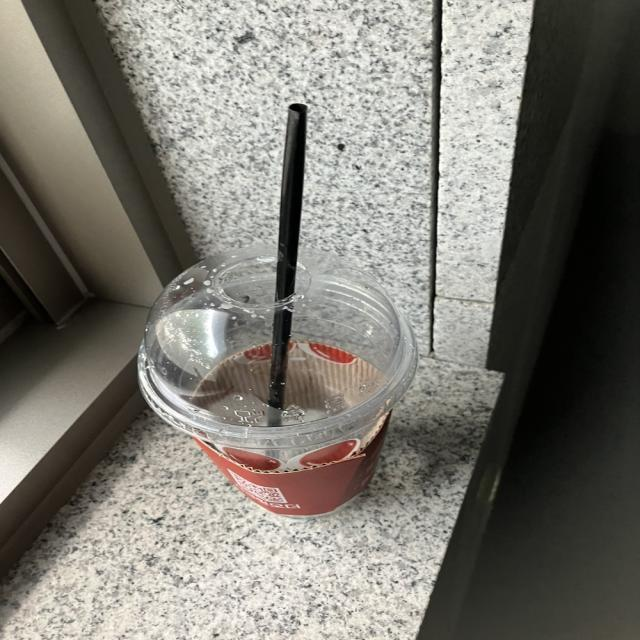cup: (136, 204, 426, 536)
